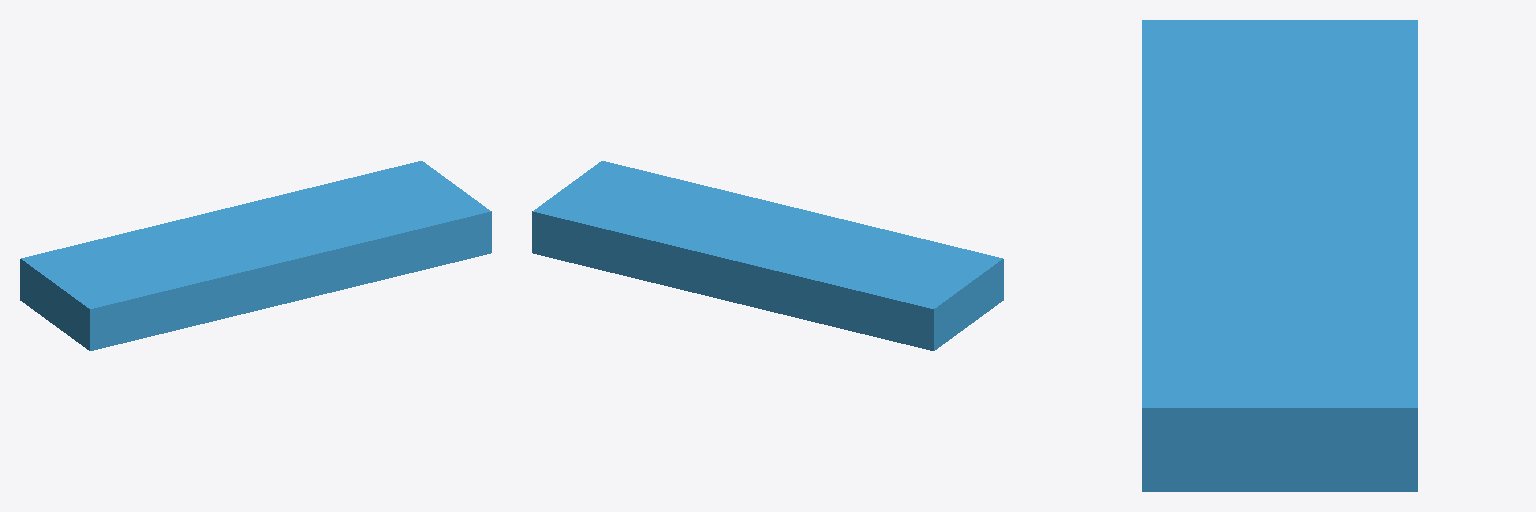
URDF robot description (le_arm):
<?xml version="1.0" ?>
<!-- =================================================================================== -->
<!-- |    This document was autogenerated by xacro from le_arm.xacro                   | -->
<!-- |    EDITING THIS FILE BY HAND IS NOT RECOMMENDED                                 | -->
<!-- =================================================================================== -->
<robot name="le_arm">
  <gazebo>
    <plugin filename="libgazebo_ros_control.so" name="gazebo_ros_control">
      <robotNamespace>/</robotNamespace>
    </plugin>
  </gazebo>
  <link name="world"/>
  <joint name="world_fixed" type="fixed">
    <origin rpy="0 0 0" xyz="0 0 0"/>
    <parent link="world"/>
    <child link="root_link"/>
  </joint>
  <link name="root_link">
    <visual>
      <origin rpy="0 0 0" xyz="0 0 0.025"/>
      <geometry>
        <box size="0.5 0.15 0.05"/>
      </geometry>
    </visual>
    <collision>
      <origin rpy="0 0 0" xyz="0 0 0.025"/>
      <geometry>
        <box size="0.5 0.15 0.05"/>
      </geometry>
    </collision>
    <inertial>
      <mass value="0.01"/>
      <origin xyz="0.0 0.0 0.0"/>
      <inertia ixx="0.000001" ixy="0.000000" ixz="0.000000" iyx="0.000000" iyy="0.000001" iyz="0.000000" izx="0.000000" izy="0.000000" izz="0.000001"/>
    </inertial>
  </link>
  <joint name="arm_base_joint" type="fixed">
    <parent link="root_link"/>
    <child link="arm_base_link"/>
    <origin rpy="0 0 0" xyz="0.05 0 0.051"/>
  </joint>
  <link name="arm_base_link">
    <inertial>
      <origin rpy="0 0 0" xyz="0.034411 3.2244E-06 0.02029"/>
      <mass value="0.00001"/>
      <inertia ixx="0.001" ixy="0.0" ixz="0.0" iyy="0.001" iyz="0.0" izz="0.001"/>
    </inertial>
    <visual>
      <origin rpy="0 0 0" xyz="0 0 0"/>
      <geometry>
        <mesh filename="package://le_arm/meshes/arm/base_link.STL"/>
      </geometry>
      <material name="">
        <color rgba="0.75294 0.75294 0.75294 1"/>
      </material>
    </visual>
    <collision>
      <origin rpy="0 0 0" xyz="0 0 0"/>
      <geometry>
        <mesh filename="package://le_arm/meshes/arm/base_link.STL"/>
      </geometry>
    </collision>
  </link>
  <gazebo reference="arm_base_link">
    <implicitSpringDamper>1</implicitSpringDamper>
    <mu1>100000</mu1>
    <mu2>100000</mu2>
    <kp>100000000.0</kp>
    <kd>1.0</kd>
  </gazebo>
  <link name="shoulder_link">
    <inertial>
      <origin rpy="0 0 0" xyz="-0.0005946 -0.00090913 0.017195"/>
      <mass value="0.00001"/>
      <inertia ixx="0.001" ixy="0.0" ixz="0.0" iyy="0.001" iyz="0.0" izz="0.001"/>
    </inertial>
    <visual>
      <origin rpy="0 0 0" xyz="0 0 0"/>
      <geometry>
        <mesh filename="package://le_arm/meshes/arm/shoulder_link.STL"/>
      </geometry>
      <material name="">
        <color rgba="0.75294 0.75294 0.75294 1"/>
      </material>
    </visual>
    <collision>
      <origin rpy="0 0 0" xyz="0 0 0"/>
      <geometry>
        <mesh filename="package://le_arm/meshes/arm/shoulder_link.STL"/>
      </geometry>
    </collision>
  </link>
  <gazebo reference="shoulder_link">
    <implicitSpringDamper>1</implicitSpringDamper>
    <mu1>100000</mu1>
    <mu2>100000</mu2>
    <kp>100000000.0</kp>
    <kd>1.0</kd>
  </gazebo>
  <joint name="shoulder_pan_joint" type="revolute">
    <origin rpy="1.2297E-10 2.2825E-27 -3.4694E-17" xyz="0.0005 0 0.0535"/>
    <parent link="arm_base_link"/>
    <child link="shoulder_link"/>
    <axis xyz="0 0 1"/>
    <limit effort="1000" lower="-1.57" upper="1.57" velocity="2"/>
  </joint>
  <link name="upper_arm_link">
    <inertial>
      <origin rpy="0 0 0" xyz="2.6345E-08 -0.02405 0.05197"/>
      <mass value="0.00001"/>
      <inertia ixx="0.001" ixy="0.0" ixz="0.0" iyy="0.001" iyz="0.0" izz="0.001"/>
    </inertial>
    <visual>
      <origin rpy="0 0 0" xyz="0 0 0"/>
      <geometry>
        <mesh filename="package://le_arm/meshes/arm/upper_arm_link.STL"/>
      </geometry>
      <material name="">
        <color rgba="0.75294 0.75294 0.75294 1"/>
      </material>
    </visual>
    <collision>
      <origin rpy="0 0 0" xyz="0 0 0"/>
      <geometry>
        <mesh filename="package://le_arm/meshes/arm/upper_arm_link.STL"/>
      </geometry>
    </collision>
  </link>
  <gazebo reference="upper_arm_link">
    <implicitSpringDamper>1</implicitSpringDamper>
    <mu1>100000</mu1>
    <mu2>100000</mu2>
    <kp>100000000.0</kp>
    <kd>1.0</kd>
  </gazebo>
  <joint name="shoulder_lift_joint" type="revolute">
    <origin rpy="-5.7183E-11 0.785 0" xyz="-0.0105 0.0226 0.032"/>
    <parent link="shoulder_link"/>
    <child link="upper_arm_link"/>
    <axis xyz="0 -1 0"/>
    <limit effort="1000" lower="-1.57" upper="1.57" velocity="2"/>
  </joint>
  <link name="forearm_link">
    <inertial>
      <origin rpy="0 0 0" xyz="3.5006E-08 0.0090395 0.033861"/>
      <mass value="0.00001"/>
      <inertia ixx="0.001" ixy="0.0" ixz="0.0" iyy="0.001" iyz="0.0" izz="0.001"/>
    </inertial>
    <visual>
      <origin rpy="0 0 0" xyz="0 0 0"/>
      <geometry>
        <mesh filename="package://le_arm/meshes/arm/forearm_link.STL"/>
      </geometry>
      <material name="">
        <color rgba="0.75294 0.75294 0.75294 1"/>
      </material>
    </visual>
    <collision>
      <origin rpy="0 0 0" xyz="0 0 0"/>
      <geometry>
        <mesh filename="package://le_arm/meshes/arm/forearm_link.STL"/>
      </geometry>
    </collision>
  </link>
  <gazebo reference="forearm_link">
    <implicitSpringDamper>1</implicitSpringDamper>
    <mu1>100000</mu1>
    <mu2>100000</mu2>
    <kp>100000000.0</kp>
    <kd>1.0</kd>
  </gazebo>
  <joint name="elbow_joint" type="revolute">
    <origin rpy="-1.6E-10 0.785 0" xyz="0 -0.0335 0.104"/>
    <parent link="upper_arm_link"/>
    <child link="forearm_link"/>
    <axis xyz="0 -1 0"/>
    <limit effort="1000" lower="-1.57" upper="1.57" velocity="2"/>
  </joint>
  <link name="wrist_1_link">
    <inertial>
      <origin rpy="0 0 0" xyz="-0.010432 0.010212 0.019017"/>
      <mass value="0.00001"/>
      <inertia ixx="0.001" ixy="0.0" ixz="0.0" iyy="0.001" iyz="0.0" izz="0.001"/>
    </inertial>
    <visual>
      <origin rpy="0 0 0" xyz="0 0 0"/>
      <geometry>
        <mesh filename="package://le_arm/meshes/arm/wrist_1_link.STL"/>
      </geometry>
      <material name="">
        <color rgba="0.75294 0.75294 0.75294 1"/>
      </material>
    </visual>
    <collision>
      <origin rpy="0 0 0" xyz="0 0 0"/>
      <geometry>
        <mesh filename="package://le_arm/meshes/arm/wrist_1_link.STL"/>
      </geometry>
    </collision>
  </link>
  <gazebo reference="wrist_1_link">
    <implicitSpringDamper>1</implicitSpringDamper>
    <mu1>100000</mu1>
    <mu2>100000</mu2>
    <kp>100000000.0</kp>
    <kd>1.0</kd>
  </gazebo>
  <joint name="wrist_1_joint" type="revolute">
    <origin rpy="5.3884E-11 0 0" xyz="-0.0007415 0.0054 0.088419"/>
    <parent link="forearm_link"/>
    <child link="wrist_1_link"/>
    <axis xyz="0 -1 0"/>
    <limit effort="1000" lower="-1.57" upper="1.57" velocity="2"/>
  </joint>
  <joint name="wrist_2_joint" type="revolute">
    <origin rpy="0 0 0" xyz="0 0.009 0.059"/>
    <parent link="wrist_1_link"/>
    <child link="gripper_base_link"/>
    <axis xyz="0 0 1"/>
    <limit effort="1000" lower="-1.57" upper="1.57" velocity="2"/>
  </joint>
  <link name="gripper_base_link">
    <inertial>
      <origin rpy="0 0 0" xyz="-0.016093 0.0024206 0.03061"/>
      <mass value="0.00001"/>
      <inertia ixx="0.001" ixy="0.0" ixz="0.0" iyy="0.001" iyz="0.0" izz="0.001"/>
    </inertial>
    <visual>
      <origin rpy="0 0 0" xyz="0 0 0"/>
      <geometry>
        <mesh filename="package://le_arm/meshes/gripper/base_link.STL"/>
      </geometry>
      <material name="">
        <color rgba="0.75294 0.75294 0.75294 1"/>
      </material>
    </visual>
    <collision>
      <origin rpy="0 0 0" xyz="0 0 0"/>
      <geometry>
        <mesh filename="package://le_arm/meshes/gripper/base_link.STL"/>
      </geometry>
    </collision>
  </link>
  <gazebo reference="gripper_base_link">
    <implicitSpringDamper>1</implicitSpringDamper>
    <mu1>100000</mu1>
    <mu2>100000</mu2>
    <kp>100000000.0</kp>
    <kd>1.0</kd>
  </gazebo>
  <link name="left_knuckle_link">
    <inertial>
      <origin rpy="0 0 0" xyz="0.0004174 0.0081181 0.00092142"/>
      <mass value="0.00001"/>
      <inertia ixx="0.001" ixy="0.0" ixz="0.0" iyy="0.001" iyz="0.0" izz="0.001"/>
    </inertial>
    <visual>
      <origin rpy="0 0 0" xyz="0 0 0"/>
      <geometry>
        <mesh filename="package://le_arm/meshes/gripper/left_knuckle_link.STL"/>
      </geometry>
      <material name="">
        <color rgba="0.75294 0.75294 0.75294 1"/>
      </material>
    </visual>
    <collision>
      <origin rpy="0 0 0" xyz="0 0 0"/>
      <geometry>
        <mesh filename="package://le_arm/meshes/gripper/left_knuckle_link.STL"/>
      </geometry>
    </collision>
  </link>
  <gazebo reference="left_knuckle_link">
    <implicitSpringDamper>1</implicitSpringDamper>
    <mu1>100000</mu1>
    <mu2>100000</mu2>
    <kp>100000000.0</kp>
    <kd>1.0</kd>
  </gazebo>
  <joint name="left_knuckle_joint" type="revolute">
    <origin rpy="1.5708 -0.59692 1.5708" xyz="0.0045 -0.014 0.0325"/>
    <parent link="gripper_base_link"/>
    <child link="left_knuckle_link"/>
    <axis xyz="0 0 1"/>
    <limit effort="1000" lower="-1.57" upper="1.57" velocity="2.0"/>
  </joint>
  <link name="right_knuckle_link">
    <inertial>
      <origin rpy="0 0 0" xyz="0.00045059 0.0080041 0.0020288"/>
      <mass value="0.00001"/>
      <inertia ixx="0.001" ixy="0.0" ixz="0.0" iyy="0.001" iyz="0.0" izz="0.001"/>
    </inertial>
    <visual>
      <origin rpy="0 0 0" xyz="0 0 0"/>
      <geometry>
        <mesh filename="package://le_arm/meshes/gripper/right_knuckle_link.STL"/>
      </geometry>
      <material name="">
        <color rgba="0.75294 0.75294 0.75294 1"/>
      </material>
    </visual>
    <collision>
      <origin rpy="0 0 0" xyz="0 0 0"/>
      <geometry>
        <mesh filename="package://le_arm/meshes/gripper/right_knuckle_link.STL"/>
      </geometry>
    </collision>
  </link>
  <gazebo reference="right_knuckle_link">
    <implicitSpringDamper>1</implicitSpringDamper>
    <mu1>100000</mu1>
    <mu2>100000</mu2>
    <kp>100000000.0</kp>
    <kd>1.0</kd>
  </gazebo>
  <joint name="right_knuckle_joint" type="revolute">
    <origin rpy="1.5708 -0.69513 -1.5708" xyz="0.0075 0.014 0.0325"/>
    <parent link="gripper_base_link"/>
    <child link="right_knuckle_link"/>
    <axis xyz="0 0 -1"/>
    <limit effort="1000" lower="-1.57" upper="1.57" velocity="2.0"/>
    <mimic joint="left_knuckle_joint" multiplier="-1"/>
  </joint>
  <link name="left_inner_knuckle_link">
    <inertial>
      <origin rpy="0 0 0" xyz="-0.013801 1.3512E-10 -0.0091952"/>
      <mass value="0.00001"/>
      <inertia ixx="0.001" ixy="0.0" ixz="0.0" iyy="0.001" iyz="0.0" izz="0.001"/>
    </inertial>
    <visual>
      <origin rpy="0 0 0" xyz="0 0 0"/>
      <geometry>
        <mesh filename="package://le_arm/meshes/gripper/left_inner_knuckle_link.STL"/>
      </geometry>
      <material name="">
        <color rgba="0.75294 0.75294 0.75294 1"/>
      </material>
    </visual>
    <collision>
      <origin rpy="0 0 0" xyz="0 0 0"/>
      <geometry>
        <mesh filename="package://le_arm/meshes/gripper/left_inner_knuckle_link.STL"/>
      </geometry>
    </collision>
  </link>
  <gazebo reference="left_inner_knuckle_link">
    <implicitSpringDamper>1</implicitSpringDamper>
    <mu1>100000</mu1>
    <mu2>100000</mu2>
    <kp>100000000.0</kp>
    <kd>1.0</kd>
  </gazebo>
  <joint name="left_inner_knuckle_joint" type="revolute">
    <origin rpy="1.5708 0.97387 1.5708" xyz="0.0099 -0.005 0.051474"/>
    <parent link="gripper_base_link"/>
    <child link="left_inner_knuckle_link"/>
    <axis xyz="0 0 1"/>
    <limit effort="1000" lower="-1.57" upper="1.57" velocity="2.0"/>
    <mimic joint="left_knuckle_joint" multiplier="1"/>
  </joint>
  <link name="left_finger_link">
    <inertial>
      <origin rpy="0 0 0" xyz="-0.0038459 0.0027734 -5.6082E-05"/>
      <mass value="0.00001"/>
      <inertia ixx="0.001" ixy="0.0" ixz="0.0" iyy="0.001" iyz="0.0" izz="0.001"/>
    </inertial>
    <visual>
      <origin rpy="0 0 0" xyz="0 0 0"/>
      <geometry>
        <mesh filename="package://le_arm/meshes/gripper/left_finger_link.STL"/>
      </geometry>
      <material name="">
        <color rgba="0.75294 0.75294 0.75294 1"/>
      </material>
    </visual>
    <collision>
      <origin rpy="0 0 0" xyz="0 0 0"/>
      <geometry>
        <mesh filename="package://le_arm/meshes/gripper/left_finger_link.STL"/>
      </geometry>
    </collision>
  </link>
  <gazebo reference="left_finger_link">
    <implicitSpringDamper>1</implicitSpringDamper>
    <mu1>100000</mu1>
    <mu2>100000</mu2>
    <kp>100000000.0</kp>
    <kd>1.0</kd>
  </gazebo>
  <joint name="left_finger_joint" type="revolute">
    <origin rpy="9.0533E-10 -1.7902E-09 0.53096" xyz="-0.029 0 -0.0084"/>
    <parent link="left_inner_knuckle_link"/>
    <child link="left_finger_link"/>
    <axis xyz="0 0 1"/>
    <limit effort="1000" lower="-1.57" upper="1.57" velocity="2.0"/>
    <mimic joint="left_knuckle_joint" multiplier="-1"/>
  </joint>
  <link name="right_inner_knuckle_link">
    <inertial>
      <origin rpy="0 0 0" xyz="-0.013801 4.8285E-11 0.0069248"/>
      <mass value="0.00001"/>
      <inertia ixx="0.001" ixy="0.0" ixz="0.0" iyy="0.001" iyz="0.0" izz="0.001"/>
    </inertial>
    <visual>
      <origin rpy="0 0 0" xyz="0 0 0"/>
      <geometry>
        <mesh filename="package://le_arm/meshes/gripper/right_inner_knuckle_link.STL"/>
      </geometry>
      <material name="">
        <color rgba="0.75294 0.75294 0.75294 1"/>
      </material>
    </visual>
    <collision>
      <origin rpy="0 0 0" xyz="0 0 0"/>
      <geometry>
        <mesh filename="package://le_arm/meshes/gripper/right_inner_knuckle_link.STL"/>
      </geometry>
    </collision>
  </link>
  <gazebo reference="right_inner_knuckle_link">
    <implicitSpringDamper>1</implicitSpringDamper>
    <mu1>100000</mu1>
    <mu2>100000</mu2>
    <kp>100000000.0</kp>
    <kd>1.0</kd>
  </gazebo>
  <joint name="right_inner_knuckle_joint" type="revolute">
    <origin rpy="-1.5708 0.87566 -1.5708" xyz="-0.00622 0.005 0.051474"/>
    <parent link="gripper_base_link"/>
    <child link="right_inner_knuckle_link"/>
    <axis xyz="0 0 1"/>
    <limit effort="1000" lower="-1.57" upper="1.57" velocity="2.0"/>
    <mimic joint="left_knuckle_joint" multiplier="-1"/>
  </joint>
  <link name="right_finger_link">
    <inertial>
      <origin rpy="0 0 0" xyz="-0.0038459 0.0027734 0.0030561"/>
      <mass value="0.00001"/>
      <inertia ixx="0.001" ixy="0.0" ixz="0.0" iyy="0.001" iyz="0.0" izz="0.001"/>
    </inertial>
    <visual>
      <origin rpy="0 0 0" xyz="0 0 0"/>
      <geometry>
        <mesh filename="package://le_arm/meshes/gripper/right_finger_link.STL"/>
      </geometry>
      <material name="">
        <color rgba="0.75294 0.75294 0.75294 1"/>
      </material>
    </visual>
    <collision>
      <origin rpy="0 0 0" xyz="0 0 0"/>
      <geometry>
        <mesh filename="package://le_arm/meshes/gripper/right_finger_link.STL"/>
      </geometry>
    </collision>
  </link>
  <gazebo reference="right_finger_link">
    <implicitSpringDamper>1</implicitSpringDamper>
    <mu1>100000</mu1>
    <mu2>100000</mu2>
    <kp>100000000.0</kp>
    <kd>1.0</kd>
  </gazebo>
  <joint name="right_finger_joint" type="revolute">
    <origin rpy="-3.1416 1.7902E-09 -0.43275" xyz="-0.029 0 0.01072"/>
    <parent link="right_inner_knuckle_link"/>
    <child link="right_finger_link"/>
    <axis xyz="0 0 -1"/>
    <limit effort="1000" lower="-1.57" upper="1.57" velocity="2.0"/>
    <mimic joint="left_knuckle_joint" multiplier="1"/>
  </joint>
  <transmission name="wrist_2_transmission">
    <type>transmission_interface/SimpleTransmission</type>
    <joint name="wrist_2_joint">
      <hardwareInterface>hardware_interface/PositionJointInterface</hardwareInterface>
    </joint>
    <actuator name="wrist_2_motor">
      <mechanicalReduction>1</mechanicalReduction>
      <hardwareInterface>hardware_interface/PositionJointInterface</hardwareInterface>
    </actuator>
  </transmission>
  <transmission name="left_knuckle_joint_transmission">
    <type>transmission_interface/SimpleTransmission</type>
    <joint name="left_knuckle_joint">
      <hardwareInterface>hardware_interface/PositionJointInterface</hardwareInterface>
    </joint>
    <actuator name="left_knuckle_motor">
      <mechanicalReduction>1</mechanicalReduction>
      <hardwareInterface>hardware_interface/PositionJointInterface</hardwareInterface>
    </actuator>
  </transmission>
  <gazebo>
    <plugin filename="libroboticsgroup_gazebo_mimic_joint_plugin.so" name="MimicJointPlugin_right_finger">
      <joint>left_knuckle_joint</joint>
      <mimicJoint>right_finger_joint</mimicJoint>
    </plugin>
    <plugin filename="libroboticsgroup_gazebo_mimic_joint_plugin.so" name="MimicJointPlugin_right_inner_knuckle">
      <joint>left_knuckle_joint</joint>
      <mimicJoint>right_inner_knuckle_joint</mimicJoint>
      <multiplier>-1</multiplier>
      <offset>0.0</offset>
    </plugin>
    <plugin filename="libroboticsgroup_gazebo_mimic_joint_plugin.so" name="MimicJointPlugin_left_finger">
      <joint>left_knuckle_joint</joint>
      <mimicJoint>left_finger_joint</mimicJoint>
      <multiplier>-1</multiplier>
      <offset>0.0</offset>
    </plugin>
    <plugin filename="libroboticsgroup_gazebo_mimic_joint_plugin.so" name="MimicJointPlugin_left_inner_knuckle">
      <joint>left_knuckle_joint</joint>
      <mimicJoint>left_inner_knuckle_joint</mimicJoint>
    </plugin>
    <plugin filename="libroboticsgroup_gazebo_mimic_joint_plugin.so" name="Mimic_right_knuckle">
      <joint>left_knuckle_joint</joint>
      <mimicJoint>right_knuckle_joint</mimicJoint>
      <multiplier>-1</multiplier>
      <offset>0.0</offset>
    </plugin>
  </gazebo>
  <transmission name="shoulder_pan_trans">
    <type>transmission_interface/SimpleTransmission</type>
    <joint name="shoulder_pan_joint">
      <hardwareInterface>hardware_interface/PositionJointInterface</hardwareInterface>
    </joint>
    <actuator name="shoulder_pan_motor">
      <mechanicalReduction>1</mechanicalReduction>
      <hardwareInterface>hardware_interface/PositionJointInterface</hardwareInterface>
    </actuator>
  </transmission>
  <transmission name="shoulder_lift_trans">
    <type>transmission_interface/SimpleTransmission</type>
    <joint name="shoulder_lift_joint">
      <hardwareInterface>hardware_interface/PositionJointInterface</hardwareInterface>
    </joint>
    <actuator name="shoulder_lift_motor">
      <mechanicalReduction>1</mechanicalReduction>
      <hardwareInterface>hardware_interface/PositionJointInterface</hardwareInterface>
    </actuator>
  </transmission>
  <transmission name="elbow_trans">
    <type>transmission_interface/SimpleTransmission</type>
    <joint name="elbow_joint">
      <hardwareInterface>hardware_interface/PositionJointInterface</hardwareInterface>
    </joint>
    <actuator name="elbow_motor">
      <mechanicalReduction>1</mechanicalReduction>
      <hardwareInterface>hardware_interface/PositionJointInterface</hardwareInterface>
    </actuator>
  </transmission>
  <transmission name="wrist_1_trans">
    <type>transmission_interface/SimpleTransmission</type>
    <joint name="wrist_1_joint">
      <hardwareInterface>hardware_interface/PositionJointInterface</hardwareInterface>
    </joint>
    <actuator name="wrist_1_motor">
      <mechanicalReduction>1</mechanicalReduction>
      <hardwareInterface>hardware_interface/PositionJointInterface</hardwareInterface>
    </actuator>
  </transmission>
</robot>

--- Facts derived from the render (not from the file) ---
3 views of the same robot in one strip: view 1: azimuth 30°, elevation 25°; view 2: azimuth 150°, elevation 25°; view 3: azimuth 270°, elevation 25° (orthographic).
Model le_arm with 14 links and 13 joints (11 revolute, 2 fixed), rooted at world, posed every joint at zero.
Visible links, largest first — view 1: root_link; view 2: root_link; view 3: root_link.
Link boxes in pixels (<box>): root_link: <box>20,161,491,350</box>; root_link: <box>532,161,1003,350</box>; root_link: <box>1142,20,1417,491</box>.
Bounding box of the posed robot: 0.5 × 0.15 × 0.05 m (x, y, z).
0 mesh visuals loaded from 12 distinct referenced files (none loaded); not drawn: 12 (reference not matched to a file when rendering).